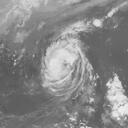cyclone: (40, 40, 95, 98)
